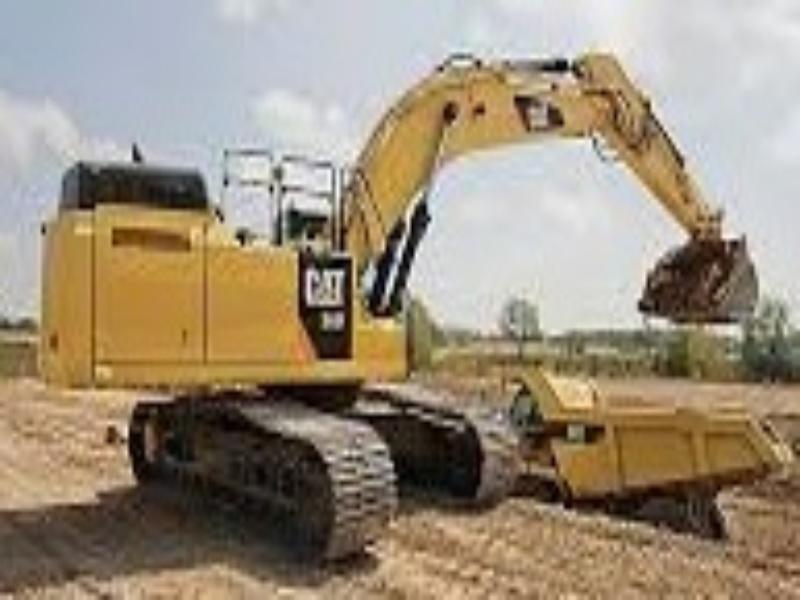wajueji: (21, 110, 586, 568)
